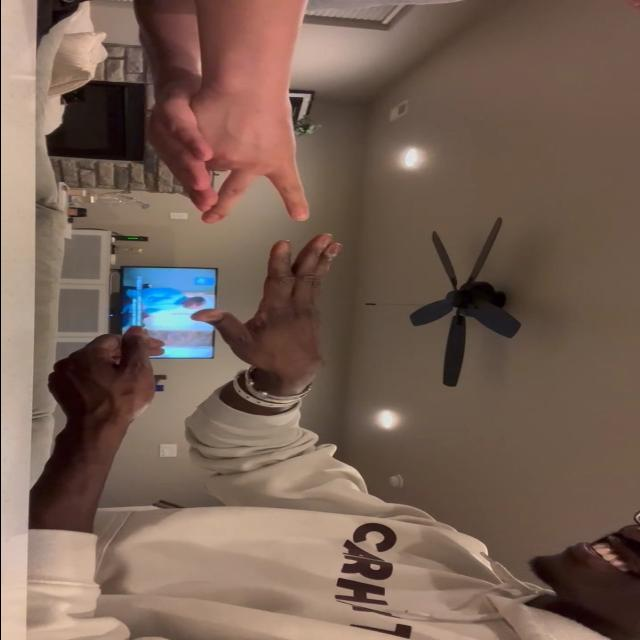Paper: (188, 232, 342, 384)
Scissors: (183, 84, 311, 225)
